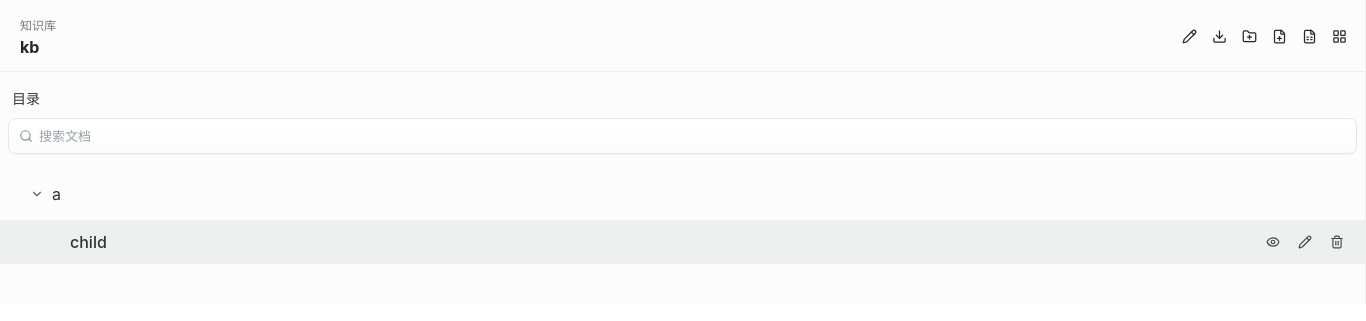
Test: 有子级的文档支持展开和收起
Expected: the list item "child" is shown, [0,220,1365,264]
Click the button named "收起子文档 a": x=37, y=194 [28,180,46,208]
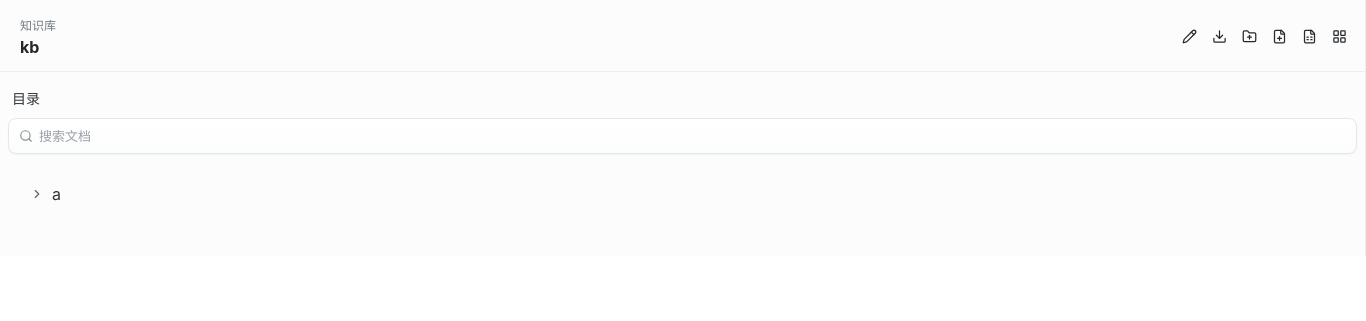
Expected: the text "child" is gone
Expected: the list item "a" is collapsed, [28,180,61,208]
